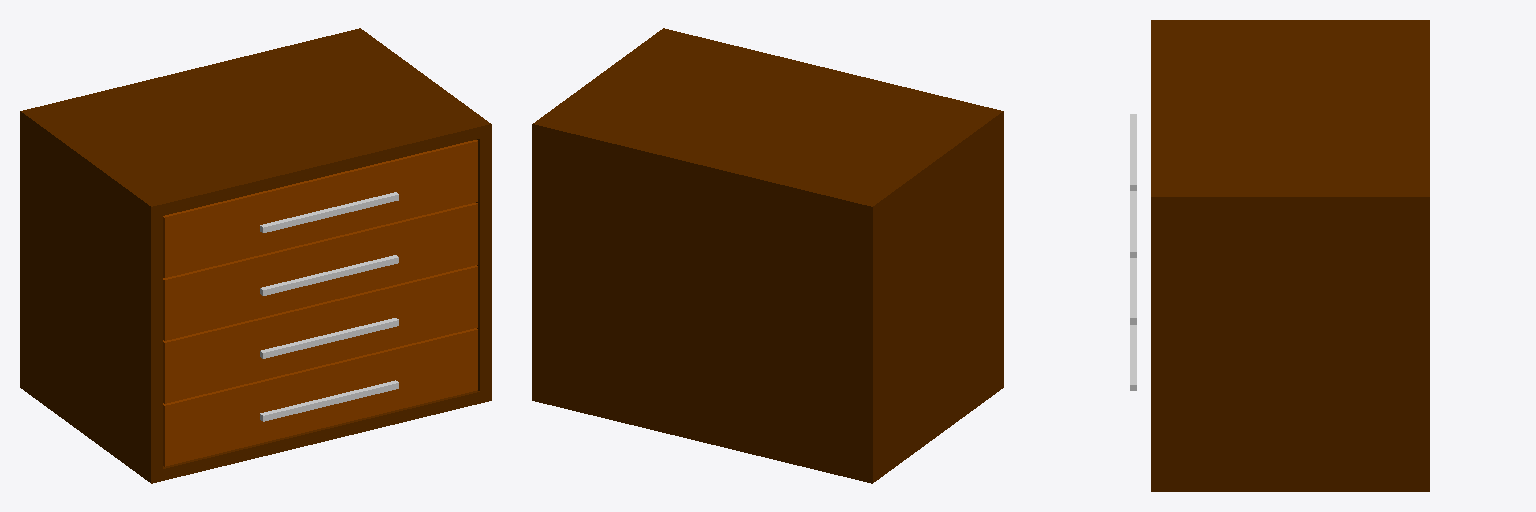
--- Render facts (derived) ---
3 views of the same robot in one strip: view 1: azimuth 30°, elevation 25°; view 2: azimuth 150°, elevation 25°; view 3: azimuth 270°, elevation 25° (orthographic).
Model cupboard_drawers with 34 links and 33 joints (4 prismatic, 29 fixed), rooted at base_link, posed all joints at 0.
Links seen in each view (by area): view 1: frame_top_wall, frame_left_wall, drawer2_bottom_wall, drawer3_bottom_wall, drawer4_bottom_wall, drawer1_bottom_wall, frame_bottom_wall, frame_right_wall, drawer1_handle, drawer2_handle, drawer3_handle, drawer4_handle; view 2: frame_back_wall, frame_top_wall, frame_left_wall, frame_bottom_wall, frame_right_wall; view 3: frame_right_wall, frame_top_wall, frame_bottom_wall, drawer4_handle.
Link boxes in pixels (left/top/right/bottom): frame_top_wall: left=20, top=28, right=491, bottom=218; frame_left_wall: left=20, top=123, right=162, bottom=471; drawer2_bottom_wall: left=163, top=265, right=477, bottom=403; drawer3_bottom_wall: left=163, top=203, right=477, bottom=340; drawer4_bottom_wall: left=163, top=140, right=477, bottom=277; drawer1_bottom_wall: left=163, top=328, right=477, bottom=466; frame_bottom_wall: left=20, top=376, right=491, bottom=483; frame_right_wall: left=476, top=136, right=491, bottom=391; drawer1_handle: left=260, top=380, right=398, bottom=421; drawer2_handle: left=260, top=318, right=398, bottom=358; drawer3_handle: left=260, top=255, right=398, bottom=295; drawer4_handle: left=260, top=192, right=398, bottom=232; frame_back_wall: left=544, top=139, right=860, bottom=468; frame_top_wall: left=532, top=28, right=1003, bottom=218; frame_left_wall: left=861, top=123, right=1003, bottom=471; frame_bottom_wall: left=532, top=376, right=1003, bottom=483; frame_right_wall: left=532, top=136, right=543, bottom=391; frame_right_wall: left=1151, top=210, right=1429, bottom=478; frame_top_wall: left=1151, top=20, right=1429, bottom=209; frame_bottom_wall: left=1151, top=479, right=1429, bottom=491; drawer4_handle: left=1130, top=114, right=1136, bottom=190.
Bounding box of the posed robot: 0.9 × 0.645 × 0.7 m (x, y, z).
Geometry: primitives only (box / cylinder / sphere), no mesh files.

The robot description file, URDF, robot "cupboard_drawers":
<?xml version="1.0" encoding="utf-8"?>
<!-- =================================================================================== -->
<!-- |    This document was autogenerated by xacro from [local-path]/GS/catkin_ws/src/moma/moma_gazebo/data/models/cupboard_drawers/cupboard_drawers.urdf.xacro | -->
<!-- |    EDITING THIS FILE BY HAND IS NOT RECOMMENDED                                 | -->
<!-- =================================================================================== -->
<robot name="cupboard_drawers">
  <material name="white">
    <color rgba="1 1 1 1"/>
  </material>
  <material name="dark_brown">
    <color rgba="0.4 0.2 0.0 1"/>
  </material>
  <material name="light_brown">
    <color rgba="0.6 0.29 0.0 1"/>
  </material>
  <material name="silver">
    <color rgba="0.87 0.87 0.87 0.8"/>
  </material>
  <link name="base_link">
    <inertial>
      <origin rpy="0 0 0" xyz="0 0 0"/>
      <mass value="0.0"/>
      <inertia ixx="1" ixy="0" ixz="0" iyy="1" iyz="0" izz="1"/>
    </inertial>
  </link>
  <link name="frame_back_wall">
    <contact>
      <lateral_friction value="1.0"/>
    </contact>
    <inertial>
      <origin rpy="0 0 0" xyz="0 0 0"/>
      <mass value="0.2"/>
      <inertia ixx="1" ixy="0" ixz="0" iyy="1" iyz="0" izz="1"/>
    </inertial>
    <visual>
      <origin rpy="0 0 0" xyz="0 0 0"/>
      <geometry>
        <box size="0.84 0.03 0.64"/>
      </geometry>
      <material name="dark_brown"/>
    </visual>
    <collision>
      <origin rpy="0 0 0" xyz="0 0 0"/>
      <geometry>
        <box size="0.84 0.03 0.64"/>
      </geometry>
    </collision>
  </link>
  <link name="frame_bottom_wall">
    <contact>
      <lateral_friction value="1.0"/>
    </contact>
    <inertial>
      <origin rpy="0 0 0" xyz="0 0 0"/>
      <mass value="0.2"/>
      <inertia ixx="1" ixy="0" ixz="0" iyy="1" iyz="0" izz="1"/>
    </inertial>
    <visual>
      <origin rpy="0 0 0" xyz="0 0 0"/>
      <geometry>
        <box size="0.9 0.03 0.6"/>
      </geometry>
      <material name="dark_brown"/>
    </visual>
    <collision>
      <origin rpy="0 0 0" xyz="0 0 0"/>
      <geometry>
        <box size="0.9 0.03 0.6"/>
      </geometry>
    </collision>
  </link>
  <joint name="frame_bottom_joint" type="fixed">
    <origin rpy="1.57079632679 0 0" xyz="0 -0.285 -0.335"/>
    <parent link="frame_back_wall"/>
    <child link="frame_bottom_wall"/>
  </joint>
  <link name="frame_left_wall">
    <contact>
      <lateral_friction value="1.0"/>
    </contact>
    <inertial>
      <origin rpy="0 0 0" xyz="0 0 0"/>
      <mass value="0.2"/>
      <inertia ixx="1" ixy="0" ixz="0" iyy="1" iyz="0" izz="1"/>
    </inertial>
    <visual>
      <origin rpy="0 0 0" xyz="0 0 0"/>
      <geometry>
        <box size="0.6 0.03 0.64"/>
      </geometry>
      <material name="dark_brown"/>
    </visual>
    <collision>
      <origin rpy="0 0 0" xyz="0 0 0"/>
      <geometry>
        <box size="0.6 0.03 0.64"/>
      </geometry>
    </collision>
  </link>
  <joint name="frame_left_joint" type="fixed">
    <origin rpy="0 0 1.57079632679" xyz="-0.435 -0.285 0"/>
    <parent link="frame_back_wall"/>
    <child link="frame_left_wall"/>
  </joint>
  <link name="frame_right_wall">
    <contact>
      <lateral_friction value="1.0"/>
    </contact>
    <inertial>
      <origin rpy="0 0 0" xyz="0 0 0"/>
      <mass value="0.2"/>
      <inertia ixx="1" ixy="0" ixz="0" iyy="1" iyz="0" izz="1"/>
    </inertial>
    <visual>
      <origin rpy="0 0 0" xyz="0 0 0"/>
      <geometry>
        <box size="0.6 0.03 0.64"/>
      </geometry>
      <material name="dark_brown"/>
    </visual>
    <collision>
      <origin rpy="0 0 0" xyz="0 0 0"/>
      <geometry>
        <box size="0.6 0.03 0.64"/>
      </geometry>
    </collision>
  </link>
  <joint name="frame_right_joint" type="fixed">
    <origin rpy="0 0 1.57079632679" xyz="0.435 -0.285 0"/>
    <parent link="frame_back_wall"/>
    <child link="frame_right_wall"/>
  </joint>
  <link name="frame_top_wall">
    <contact>
      <lateral_friction value="1.0"/>
    </contact>
    <inertial>
      <origin rpy="0 0 0" xyz="0 0 0"/>
      <mass value="0.2"/>
      <inertia ixx="1" ixy="0" ixz="0" iyy="1" iyz="0" izz="1"/>
    </inertial>
    <visual>
      <origin rpy="0 0 0" xyz="0 0 0"/>
      <geometry>
        <box size="0.9 0.03 0.6"/>
      </geometry>
      <material name="dark_brown"/>
    </visual>
    <collision>
      <origin rpy="0 0 0" xyz="0 0 0"/>
      <geometry>
        <box size="0.9 0.03 0.6"/>
      </geometry>
    </collision>
  </link>
  <joint name="frame_top_joint" type="fixed">
    <origin rpy="1.57079632679 0 0" xyz="0 -0.285 0.335"/>
    <parent link="frame_back_wall"/>
    <child link="frame_top_wall"/>
  </joint>
  <joint name="frame_joint" type="fixed">
    <origin rpy="0 0 0" xyz="0 0.285 0.35"/>
    <parent link="base_link"/>
    <child link="frame_back_wall"/>
  </joint>
  <link name="drawer1_back_wall">
    <contact>
      <lateral_friction value="1.0"/>
    </contact>
    <inertial>
      <origin rpy="0 0 0" xyz="0 0 0"/>
      <mass value="0.2"/>
      <inertia ixx="1" ixy="0" ixz="0" iyy="1" iyz="0" izz="1"/>
    </inertial>
    <visual>
      <origin rpy="0 0 0" xyz="0 0 0"/>
      <geometry>
        <box size="0.8 0.015 0.535"/>
      </geometry>
      <material name="light_brown"/>
    </visual>
    <collision>
      <origin rpy="0 0 0" xyz="0 0 0"/>
      <geometry>
        <box size="0.8 0.015 0.535"/>
      </geometry>
    </collision>
  </link>
  <link name="drawer1_bottom_wall">
    <contact>
      <lateral_friction value="1.0"/>
    </contact>
    <inertial>
      <origin rpy="0 0 0" xyz="0 0 0"/>
      <mass value="0.2"/>
      <inertia ixx="1" ixy="0" ixz="0" iyy="1" iyz="0" izz="1"/>
    </inertial>
    <visual>
      <origin rpy="0 0 0" xyz="0 0 0"/>
      <geometry>
        <box size="0.83 0.015 0.15375"/>
      </geometry>
      <material name="light_brown"/>
    </visual>
    <collision>
      <origin rpy="0 0 0" xyz="0 0 0"/>
      <geometry>
        <box size="0.83 0.015 0.15375"/>
      </geometry>
    </collision>
  </link>
  <joint name="drawer1_bottom_joint" type="fixed">
    <origin rpy="1.57079632679 0 0" xyz="0 -0.069375 -0.275"/>
    <parent link="drawer1_back_wall"/>
    <child link="drawer1_bottom_wall"/>
  </joint>
  <link name="drawer1_left_wall">
    <contact>
      <lateral_friction value="1.0"/>
    </contact>
    <inertial>
      <origin rpy="0 0 0" xyz="0 0 0"/>
      <mass value="0.2"/>
      <inertia ixx="1" ixy="0" ixz="0" iyy="1" iyz="0" izz="1"/>
    </inertial>
    <visual>
      <origin rpy="0 0 0" xyz="0 0 0"/>
      <geometry>
        <box size="0.15375 0.015 0.535"/>
      </geometry>
      <material name="light_brown"/>
    </visual>
    <collision>
      <origin rpy="0 0 0" xyz="0 0 0"/>
      <geometry>
        <box size="0.15375 0.015 0.535"/>
      </geometry>
    </collision>
  </link>
  <joint name="drawer1_left_joint" type="fixed">
    <origin rpy="0 0 1.57079632679" xyz="-0.4075 -0.069375 0"/>
    <parent link="drawer1_back_wall"/>
    <child link="drawer1_left_wall"/>
  </joint>
  <link name="drawer1_right_wall">
    <contact>
      <lateral_friction value="1.0"/>
    </contact>
    <inertial>
      <origin rpy="0 0 0" xyz="0 0 0"/>
      <mass value="0.2"/>
      <inertia ixx="1" ixy="0" ixz="0" iyy="1" iyz="0" izz="1"/>
    </inertial>
    <visual>
      <origin rpy="0 0 0" xyz="0 0 0"/>
      <geometry>
        <box size="0.15375 0.015 0.535"/>
      </geometry>
      <material name="light_brown"/>
    </visual>
    <collision>
      <origin rpy="0 0 0" xyz="0 0 0"/>
      <geometry>
        <box size="0.15375 0.015 0.535"/>
      </geometry>
    </collision>
  </link>
  <joint name="drawer1_right_joint" type="fixed">
    <origin rpy="0 0 1.57079632679" xyz="0.4075 -0.069375 0"/>
    <parent link="drawer1_back_wall"/>
    <child link="drawer1_right_wall"/>
  </joint>
  <link name="drawer1_top_wall">
    <contact>
      <lateral_friction value="1.0"/>
    </contact>
    <inertial>
      <origin rpy="0 0 0" xyz="0 0 0"/>
      <mass value="0.2"/>
      <inertia ixx="1" ixy="0" ixz="0" iyy="1" iyz="0" izz="1"/>
    </inertial>
    <visual>
      <origin rpy="0 0 0" xyz="0 0 0"/>
      <geometry>
        <box size="0.83 0.015 0.15375"/>
      </geometry>
      <material name="light_brown"/>
    </visual>
    <collision>
      <origin rpy="0 0 0" xyz="0 0 0"/>
      <geometry>
        <box size="0.83 0.015 0.15375"/>
      </geometry>
    </collision>
  </link>
  <joint name="drawer1_top_joint" type="fixed">
    <origin rpy="1.57079632679 0 0" xyz="0 -0.069375 0.275"/>
    <parent link="drawer1_back_wall"/>
    <child link="drawer1_top_wall"/>
  </joint>
  <joint name="drawer_joint1" type="prismatic">
    <origin rpy="-1.57079632679 0 0" xyz="0 -0.0175 0.0425"/>
    <parent link="base_link"/>
    <child link="drawer1_back_wall"/>
    <axis xyz="0 0 -1"/>
    <dynamics damping="8.0"/>
    <limit effort="10.0" lower="0.0" upper="0.48" velocity="1.5"/>
  </joint>
  <link name="drawer1_handle">
    <inertial>
      <origin rpy="0 0 0" xyz="0 0 0"/>
      <mass value="0.2"/>
      <inertia ixx="1" ixy="0" ixz="0" iyy="1" iyz="0" izz="1"/>
    </inertial>
    <collision>
      <origin rpy="0 0 0" xyz="0 0 0"/>
      <geometry>
        <!-- <cylinder radius="0.01" length="${total_width*0.4}"/> -->
        <box size="0.015 0.015 0.36"/>
      </geometry>
    </collision>
    <visual>
      <origin rpy="0 0 0" xyz="0 0 0"/>
      <geometry>
        <!-- <cylinder radius="0.01" length="${total_width*0.4}"/> -->
        <box size="0.015 0.015 0.36"/>
      </geometry>
      <material name="silver"/>
    </visual>
  </link>
  <joint name="drawer1_handle_joint" type="fixed">
    <origin rpy="0 1.57079632679 0" xyz="0 -0.076875 -0.32"/>
    <parent link="drawer1_back_wall"/>
    <child link="drawer1_handle"/>
  </joint>
  <link name="drawer_handle_dummy_link1">
    <!-- This dummy link is added s.t. the handle is the parent of some link and we can find the handle's index. -->
    <inertial>
      <origin rpy="0 0 0" xyz="0 0 0"/>
      <mass value="0.1"/>
      <inertia ixx="1" ixy="0" ixz="0" iyy="1" iyz="0" izz="1"/>
    </inertial>
  </link>
  <joint name="drawer_handle_dummy_joint1" type="fixed">
    <origin rpy="0 0 0" xyz="0 0 0"/>
    <parent link="drawer1_handle"/>
    <child link="drawer_handle_dummy_link1"/>
  </joint>
  <link name="drawer2_back_wall">
    <contact>
      <lateral_friction value="1.0"/>
    </contact>
    <inertial>
      <origin rpy="0 0 0" xyz="0 0 0"/>
      <mass value="0.2"/>
      <inertia ixx="1" ixy="0" ixz="0" iyy="1" iyz="0" izz="1"/>
    </inertial>
    <visual>
      <origin rpy="0 0 0" xyz="0 0 0"/>
      <geometry>
        <box size="0.8 0.015 0.535"/>
      </geometry>
      <material name="light_brown"/>
    </visual>
    <collision>
      <origin rpy="0 0 0" xyz="0 0 0"/>
      <geometry>
        <box size="0.8 0.015 0.535"/>
      </geometry>
    </collision>
  </link>
  <link name="drawer2_bottom_wall">
    <contact>
      <lateral_friction value="1.0"/>
    </contact>
    <inertial>
      <origin rpy="0 0 0" xyz="0 0 0"/>
      <mass value="0.2"/>
      <inertia ixx="1" ixy="0" ixz="0" iyy="1" iyz="0" izz="1"/>
    </inertial>
    <visual>
      <origin rpy="0 0 0" xyz="0 0 0"/>
      <geometry>
        <box size="0.83 0.015 0.15375"/>
      </geometry>
      <material name="light_brown"/>
    </visual>
    <collision>
      <origin rpy="0 0 0" xyz="0 0 0"/>
      <geometry>
        <box size="0.83 0.015 0.15375"/>
      </geometry>
    </collision>
  </link>
  <joint name="drawer2_bottom_joint" type="fixed">
    <origin rpy="1.57079632679 0 0" xyz="0 -0.069375 -0.275"/>
    <parent link="drawer2_back_wall"/>
    <child link="drawer2_bottom_wall"/>
  </joint>
  <link name="drawer2_left_wall">
    <contact>
      <lateral_friction value="1.0"/>
    </contact>
    <inertial>
      <origin rpy="0 0 0" xyz="0 0 0"/>
      <mass value="0.2"/>
      <inertia ixx="1" ixy="0" ixz="0" iyy="1" iyz="0" izz="1"/>
    </inertial>
    <visual>
      <origin rpy="0 0 0" xyz="0 0 0"/>
      <geometry>
        <box size="0.15375 0.015 0.535"/>
      </geometry>
      <material name="light_brown"/>
    </visual>
    <collision>
      <origin rpy="0 0 0" xyz="0 0 0"/>
      <geometry>
        <box size="0.15375 0.015 0.535"/>
      </geometry>
    </collision>
  </link>
  <joint name="drawer2_left_joint" type="fixed">
    <origin rpy="0 0 1.57079632679" xyz="-0.4075 -0.069375 0"/>
    <parent link="drawer2_back_wall"/>
    <child link="drawer2_left_wall"/>
  </joint>
  <link name="drawer2_right_wall">
    <contact>
      <lateral_friction value="1.0"/>
    </contact>
    <inertial>
      <origin rpy="0 0 0" xyz="0 0 0"/>
      <mass value="0.2"/>
      <inertia ixx="1" ixy="0" ixz="0" iyy="1" iyz="0" izz="1"/>
    </inertial>
    <visual>
      <origin rpy="0 0 0" xyz="0 0 0"/>
      <geometry>
        <box size="0.15375 0.015 0.535"/>
      </geometry>
      <material name="light_brown"/>
    </visual>
    <collision>
      <origin rpy="0 0 0" xyz="0 0 0"/>
      <geometry>
        <box size="0.15375 0.015 0.535"/>
      </geometry>
    </collision>
  </link>
  <joint name="drawer2_right_joint" type="fixed">
    <origin rpy="0 0 1.57079632679" xyz="0.4075 -0.069375 0"/>
    <parent link="drawer2_back_wall"/>
    <child link="drawer2_right_wall"/>
  </joint>
  <link name="drawer2_top_wall">
    <contact>
      <lateral_friction value="1.0"/>
    </contact>
    <inertial>
      <origin rpy="0 0 0" xyz="0 0 0"/>
      <mass value="0.2"/>
      <inertia ixx="1" ixy="0" ixz="0" iyy="1" iyz="0" izz="1"/>
    </inertial>
    <visual>
      <origin rpy="0 0 0" xyz="0 0 0"/>
      <geometry>
        <box size="0.83 0.015 0.15375"/>
      </geometry>
      <material name="light_brown"/>
    </visual>
    <collision>
      <origin rpy="0 0 0" xyz="0 0 0"/>
      <geometry>
        <box size="0.83 0.015 0.15375"/>
      </geometry>
    </collision>
  </link>
  <joint name="drawer2_top_joint" type="fixed">
    <origin rpy="1.57079632679 0 0" xyz="0 -0.069375 0.275"/>
    <parent link="drawer2_back_wall"/>
    <child link="drawer2_top_wall"/>
  </joint>
  <joint name="drawer_joint2" type="prismatic">
    <origin rpy="-1.57079632679 0 0" xyz="0 -0.0175 0.20125"/>
    <parent link="base_link"/>
    <child link="drawer2_back_wall"/>
    <axis xyz="0 0 -1"/>
    <dynamics damping="8.0"/>
    <limit effort="10.0" lower="0.0" upper="0.48" velocity="1.5"/>
  </joint>
  <link name="drawer2_handle">
    <inertial>
      <origin rpy="0 0 0" xyz="0 0 0"/>
      <mass value="0.2"/>
      <inertia ixx="1" ixy="0" ixz="0" iyy="1" iyz="0" izz="1"/>
    </inertial>
    <collision>
      <origin rpy="0 0 0" xyz="0 0 0"/>
      <geometry>
        <!-- <cylinder radius="0.01" length="${total_width*0.4}"/> -->
        <box size="0.015 0.015 0.36"/>
      </geometry>
    </collision>
    <visual>
      <origin rpy="0 0 0" xyz="0 0 0"/>
      <geometry>
        <!-- <cylinder radius="0.01" length="${total_width*0.4}"/> -->
        <box size="0.015 0.015 0.36"/>
      </geometry>
      <material name="silver"/>
    </visual>
  </link>
  <joint name="drawer2_handle_joint" type="fixed">
    <origin rpy="0 1.57079632679 0" xyz="0 -0.076875 -0.32"/>
    <parent link="drawer2_back_wall"/>
    <child link="drawer2_handle"/>
  </joint>
  <link name="drawer_handle_dummy_link2">
    <!-- This dummy link is added s.t. the handle is the parent of some link and we can find the handle's index. -->
    <inertial>
      <origin rpy="0 0 0" xyz="0 0 0"/>
      <mass value="0.1"/>
      <inertia ixx="1" ixy="0" ixz="0" iyy="1" iyz="0" izz="1"/>
    </inertial>
  </link>
  <joint name="drawer_handle_dummy_joint2" type="fixed">
    <origin rpy="0 0 0" xyz="0 0 0"/>
    <parent link="drawer2_handle"/>
    <child link="drawer_handle_dummy_link2"/>
  </joint>
  <link name="drawer3_back_wall">
    <contact>
      <lateral_friction value="1.0"/>
    </contact>
    <inertial>
      <origin rpy="0 0 0" xyz="0 0 0"/>
      <mass value="0.2"/>
      <inertia ixx="1" ixy="0" ixz="0" iyy="1" iyz="0" izz="1"/>
    </inertial>
    <visual>
      <origin rpy="0 0 0" xyz="0 0 0"/>
      <geometry>
        <box size="0.8 0.015 0.535"/>
      </geometry>
      <material name="light_brown"/>
    </visual>
    <collision>
      <origin rpy="0 0 0" xyz="0 0 0"/>
      <geometry>
        <box size="0.8 0.015 0.535"/>
      </geometry>
    </collision>
  </link>
  <link name="drawer3_bottom_wall">
    <contact>
      <lateral_friction value="1.0"/>
    </contact>
    <inertial>
      <origin rpy="0 0 0" xyz="0 0 0"/>
      <mass value="0.2"/>
      <inertia ixx="1" ixy="0" ixz="0" iyy="1" iyz="0" izz="1"/>
    </inertial>
    <visual>
      <origin rpy="0 0 0" xyz="0 0 0"/>
      <geometry>
        <box size="0.83 0.015 0.15375"/>
      </geometry>
      <material name="light_brown"/>
    </visual>
    <collision>
      <origin rpy="0 0 0" xyz="0 0 0"/>
      <geometry>
        <box size="0.83 0.015 0.15375"/>
      </geometry>
    </collision>
  </link>
  <joint name="drawer3_bottom_joint" type="fixed">
    <origin rpy="1.57079632679 0 0" xyz="0 -0.069375 -0.275"/>
    <parent link="drawer3_back_wall"/>
    <child link="drawer3_bottom_wall"/>
  </joint>
  <link name="drawer3_left_wall">
    <contact>
      <lateral_friction value="1.0"/>
    </contact>
    <inertial>
      <origin rpy="0 0 0" xyz="0 0 0"/>
      <mass value="0.2"/>
      <inertia ixx="1" ixy="0" ixz="0" iyy="1" iyz="0" izz="1"/>
    </inertial>
    <visual>
      <origin rpy="0 0 0" xyz="0 0 0"/>
      <geometry>
        <box size="0.15375 0.015 0.535"/>
      </geometry>
      <material name="light_brown"/>
    </visual>
    <collision>
      <origin rpy="0 0 0" xyz="0 0 0"/>
      <geometry>
        <box size="0.15375 0.015 0.535"/>
      </geometry>
    </collision>
  </link>
  <joint name="drawer3_left_joint" type="fixed">
    <origin rpy="0 0 1.57079632679" xyz="-0.4075 -0.069375 0"/>
    <parent link="drawer3_back_wall"/>
    <child link="drawer3_left_wall"/>
  </joint>
  <link name="drawer3_right_wall">
    <contact>
      <lateral_friction value="1.0"/>
    </contact>
    <inertial>
      <origin rpy="0 0 0" xyz="0 0 0"/>
      <mass value="0.2"/>
      <inertia ixx="1" ixy="0" ixz="0" iyy="1" iyz="0" izz="1"/>
    </inertial>
    <visual>
      <origin rpy="0 0 0" xyz="0 0 0"/>
      <geometry>
        <box size="0.15375 0.015 0.535"/>
      </geometry>
      <material name="light_brown"/>
    </visual>
    <collision>
      <origin rpy="0 0 0" xyz="0 0 0"/>
      <geometry>
        <box size="0.15375 0.015 0.535"/>
      </geometry>
    </collision>
  </link>
  <joint name="drawer3_right_joint" type="fixed">
    <origin rpy="0 0 1.57079632679" xyz="0.4075 -0.069375 0"/>
    <parent link="drawer3_back_wall"/>
    <child link="drawer3_right_wall"/>
  </joint>
  <link name="drawer3_top_wall">
    <contact>
      <lateral_friction value="1.0"/>
    </contact>
    <inertial>
      <origin rpy="0 0 0" xyz="0 0 0"/>
      <mass value="0.2"/>
      <inertia ixx="1" ixy="0" ixz="0" iyy="1" iyz="0" izz="1"/>
    </inertial>
    <visual>
      <origin rpy="0 0 0" xyz="0 0 0"/>
      <geometry>
        <box size="0.83 0.015 0.15375"/>
      </geometry>
      <material name="light_brown"/>
    </visual>
    <collision>
      <origin rpy="0 0 0" xyz="0 0 0"/>
      <geometry>
        <box size="0.83 0.015 0.15375"/>
      </geometry>
    </collision>
  </link>
  <joint name="drawer3_top_joint" type="fixed">
    <origin rpy="1.57079632679 0 0" xyz="0 -0.069375 0.275"/>
    <parent link="drawer3_back_wall"/>
    <child link="drawer3_top_wall"/>
  </joint>
  <joint name="drawer_joint3" type="prismatic">
    <origin rpy="-1.57079632679 0 0" xyz="0 -0.0175 0.36"/>
    <parent link="base_link"/>
    <child link="drawer3_back_wall"/>
    <axis xyz="0 0 -1"/>
    <dynamics damping="8.0"/>
    <limit effort="10.0" lower="0.0" upper="0.48" velocity="1.5"/>
  </joint>
  <link name="drawer3_handle">
    <inertial>
      <origin rpy="0 0 0" xyz="0 0 0"/>
      <mass value="0.2"/>
      <inertia ixx="1" ixy="0" ixz="0" iyy="1" iyz="0" izz="1"/>
    </inertial>
    <collision>
      <origin rpy="0 0 0" xyz="0 0 0"/>
      <geometry>
        <!-- <cylinder radius="0.01" length="${total_width*0.4}"/> -->
        <box size="0.015 0.015 0.36"/>
      </geometry>
    </collision>
    <visual>
      <origin rpy="0 0 0" xyz="0 0 0"/>
      <geometry>
        <!-- <cylinder radius="0.01" length="${total_width*0.4}"/> -->
        <box size="0.015 0.015 0.36"/>
      </geometry>
      <material name="silver"/>
    </visual>
  </link>
  <joint name="drawer3_handle_joint" type="fixed">
    <origin rpy="0 1.57079632679 0" xyz="0 -0.076875 -0.32"/>
    <parent link="drawer3_back_wall"/>
    <child link="drawer3_handle"/>
  </joint>
  <link name="drawer_handle_dummy_link3">
    <!-- This dummy link is added s.t. the handle is the parent of some link and we can find the handle's index. -->
    <inertial>
      <origin rpy="0 0 0" xyz="0 0 0"/>
      <mass value="0.1"/>
      <inertia ixx="1" ixy="0" ixz="0" iyy="1" iyz="0" izz="1"/>
    </inertial>
  </link>
  <joint name="drawer_handle_dummy_joint3" type="fixed">
    <origin rpy="0 0 0" xyz="0 0 0"/>
    <parent link="drawer3_handle"/>
    <child link="drawer_handle_dummy_link3"/>
  </joint>
  <link name="drawer4_back_wall">
    <contact>
      <lateral_friction value="1.0"/>
    </contact>
    <inertial>
      <origin rpy="0 0 0" xyz="0 0 0"/>
      <mass value="0.2"/>
      <inertia ixx="1" ixy="0" ixz="0" iyy="1" iyz="0" izz="1"/>
    </inertial>
    <visual>
      <origin rpy="0 0 0" xyz="0 0 0"/>
      <geometry>
        <box size="0.8 0.015 0.535"/>
      </geometry>
      <material name="light_brown"/>
    </visual>
    <collision>
      <origin rpy="0 0 0" xyz="0 0 0"/>
      <geometry>
        <box size="0.8 0.015 0.535"/>
      </geometry>
    </collision>
  </link>
  <link name="drawer4_bottom_wall">
    <contact>
      <lateral_friction value="1.0"/>
    </contact>
    <inertial>
      <origin rpy="0 0 0" xyz="0 0 0"/>
      <mass value="0.2"/>
      <inertia ixx="1" ixy="0" ixz="0" iyy="1" iyz="0" izz="1"/>
    </inertial>
    <visual>
      <origin rpy="0 0 0" xyz="0 0 0"/>
      <geometry>
        <box size="0.83 0.015 0.15375"/>
      </geometry>
      <material name="light_brown"/>
    </visual>
    <collision>
      <origin rpy="0 0 0" xyz="0 0 0"/>
      <geometry>
        <box size="0.83 0.015 0.15375"/>
      </geometry>
    </collision>
  </link>
  <joint name="drawer4_bottom_joint" type="fixed">
    <origin rpy="1.57079632679 0 0" xyz="0 -0.069375 -0.275"/>
    <parent link="drawer4_back_wall"/>
    <child link="drawer4_bottom_wall"/>
  </joint>
  <link name="drawer4_left_wall">
    <contact>
      <lateral_friction value="1.0"/>
    </contact>
    <inertial>
      <origin rpy="0 0 0" xyz="0 0 0"/>
      <mass value="0.2"/>
      <inertia ixx="1" ixy="0" ixz="0" iyy="1" iyz="0" izz="1"/>
    </inertial>
    <visual>
      <origin rpy="0 0 0" xyz="0 0 0"/>
      <geometry>
        <box size="0.15375 0.015 0.535"/>
      </geometry>
      <material name="light_brown"/>
    </visual>
    <collision>
      <origin rpy="0 0 0" xyz="0 0 0"/>
      <geometry>
        <box size="0.15375 0.015 0.535"/>
      </geometry>
    </collision>
  </link>
  <joint name="drawer4_left_joint" type="fixed">
    <origin rpy="0 0 1.57079632679" xyz="-0.4075 -0.069375 0"/>
    <parent link="drawer4_back_wall"/>
    <child link="drawer4_left_wall"/>
  </joint>
  <link name="drawer4_right_wall">
    <contact>
      <lateral_friction value="1.0"/>
    </contact>
    <inertial>
      <origin rpy="0 0 0" xyz="0 0 0"/>
      <mass value="0.2"/>
      <inertia ixx="1" ixy="0" ixz="0" iyy="1" iyz="0" izz="1"/>
    </inertial>
    <visual>
      <origin rpy="0 0 0" xyz="0 0 0"/>
      <geometry>
        <box size="0.15375 0.015 0.535"/>
      </geometry>
      <material name="light_brown"/>
    </visual>
    <collision>
      <origin rpy="0 0 0" xyz="0 0 0"/>
      <geometry>
        <box size="0.15375 0.015 0.535"/>
      </geometry>
    </collision>
  </link>
  <joint name="drawer4_right_joint" type="fixed">
    <origin rpy="0 0 1.57079632679" xyz="0.4075 -0.069375 0"/>
    <parent link="drawer4_back_wall"/>
    <child link="drawer4_right_wall"/>
  </joint>
  <link name="drawer4_top_wall">
    <contact>
      <lateral_friction value="1.0"/>
    </contact>
    <inertial>
      <origin rpy="0 0 0" xyz="0 0 0"/>
      <mass value="0.2"/>
      <inertia ixx="1" ixy="0" ixz="0" iyy="1" iyz="0" izz="1"/>
    </inertial>
    <visual>
      <origin rpy="0 0 0" xyz="0 0 0"/>
      <geometry>
        <box size="0.83 0.015 0.15375"/>
      </geometry>
      <material name="light_brown"/>
    </visual>
    <collision>
      <origin rpy="0 0 0" xyz="0 0 0"/>
      <geometry>
        <box size="0.83 0.015 0.15375"/>
      </geometry>
    </collision>
  </link>
  <joint name="drawer4_top_joint" type="fixed">
    <origin rpy="1.57079632679 0 0" xyz="0 -0.069375 0.275"/>
    <parent link="drawer4_back_wall"/>
    <child link="drawer4_top_wall"/>
  </joint>
  <joint name="drawer_joint4" type="prismatic">
    <origin rpy="-1.57079632679 0 0" xyz="0 -0.0175 0.51875"/>
    <parent link="base_link"/>
    <child link="drawer4_back_wall"/>
    <axis xyz="0 0 -1"/>
    <dynamics damping="8.0"/>
    <limit effort="10.0" lower="0.0" upper="0.48" velocity="1.5"/>
  </joint>
  <link name="drawer4_handle">
    <inertial>
      <origin rpy="0 0 0" xyz="0 0 0"/>
      <mass value="0.2"/>
      <inertia ixx="1" ixy="0" ixz="0" iyy="1" iyz="0" izz="1"/>
    </inertial>
    <collision>
      <origin rpy="0 0 0" xyz="0 0 0"/>
      <geometry>
        <!-- <cylinder radius="0.01" length="${total_width*0.4}"/> -->
        <box size="0.015 0.015 0.36"/>
      </geometry>
    </collision>
    <visual>
      <origin rpy="0 0 0" xyz="0 0 0"/>
      <geometry>
        <!-- <cylinder radius="0.01" length="${total_width*0.4}"/> -->
        <box size="0.015 0.015 0.36"/>
      </geometry>
      <material name="silver"/>
    </visual>
  </link>
  <joint name="drawer4_handle_joint" type="fixed">
    <origin rpy="0 1.57079632679 0" xyz="0 -0.076875 -0.32"/>
    <parent link="drawer4_back_wall"/>
    <child link="drawer4_handle"/>
  </joint>
  <link name="drawer_handle_dummy_link4">
    <!-- This dummy link is added s.t. the handle is the parent of some link and we can find the handle's index. -->
    <inertial>
      <origin rpy="0 0 0" xyz="0 0 0"/>
      <mass value="0.1"/>
      <inertia ixx="1" ixy="0" ixz="0" iyy="1" iyz="0" izz="1"/>
    </inertial>
  </link>
  <joint name="drawer_handle_dummy_joint4" type="fixed">
    <origin rpy="0 0 0" xyz="0 0 0"/>
    <parent link="drawer4_handle"/>
    <child link="drawer_handle_dummy_link4"/>
  </joint>
</robot>
